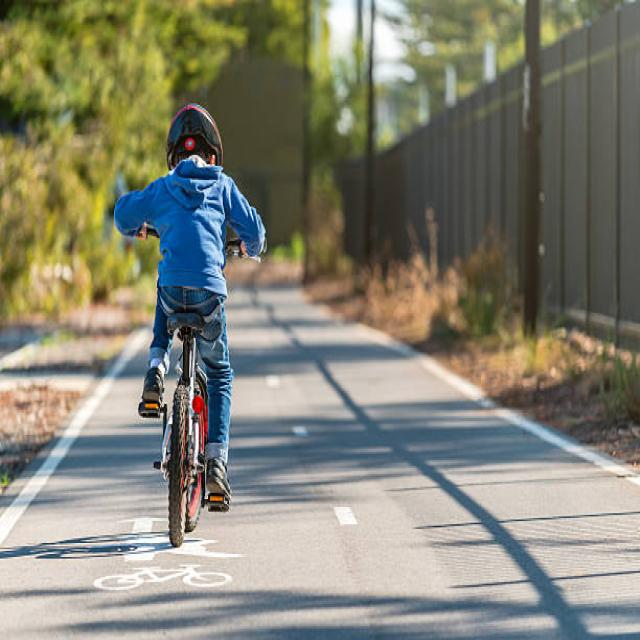bicycle: (115, 105, 265, 545)
